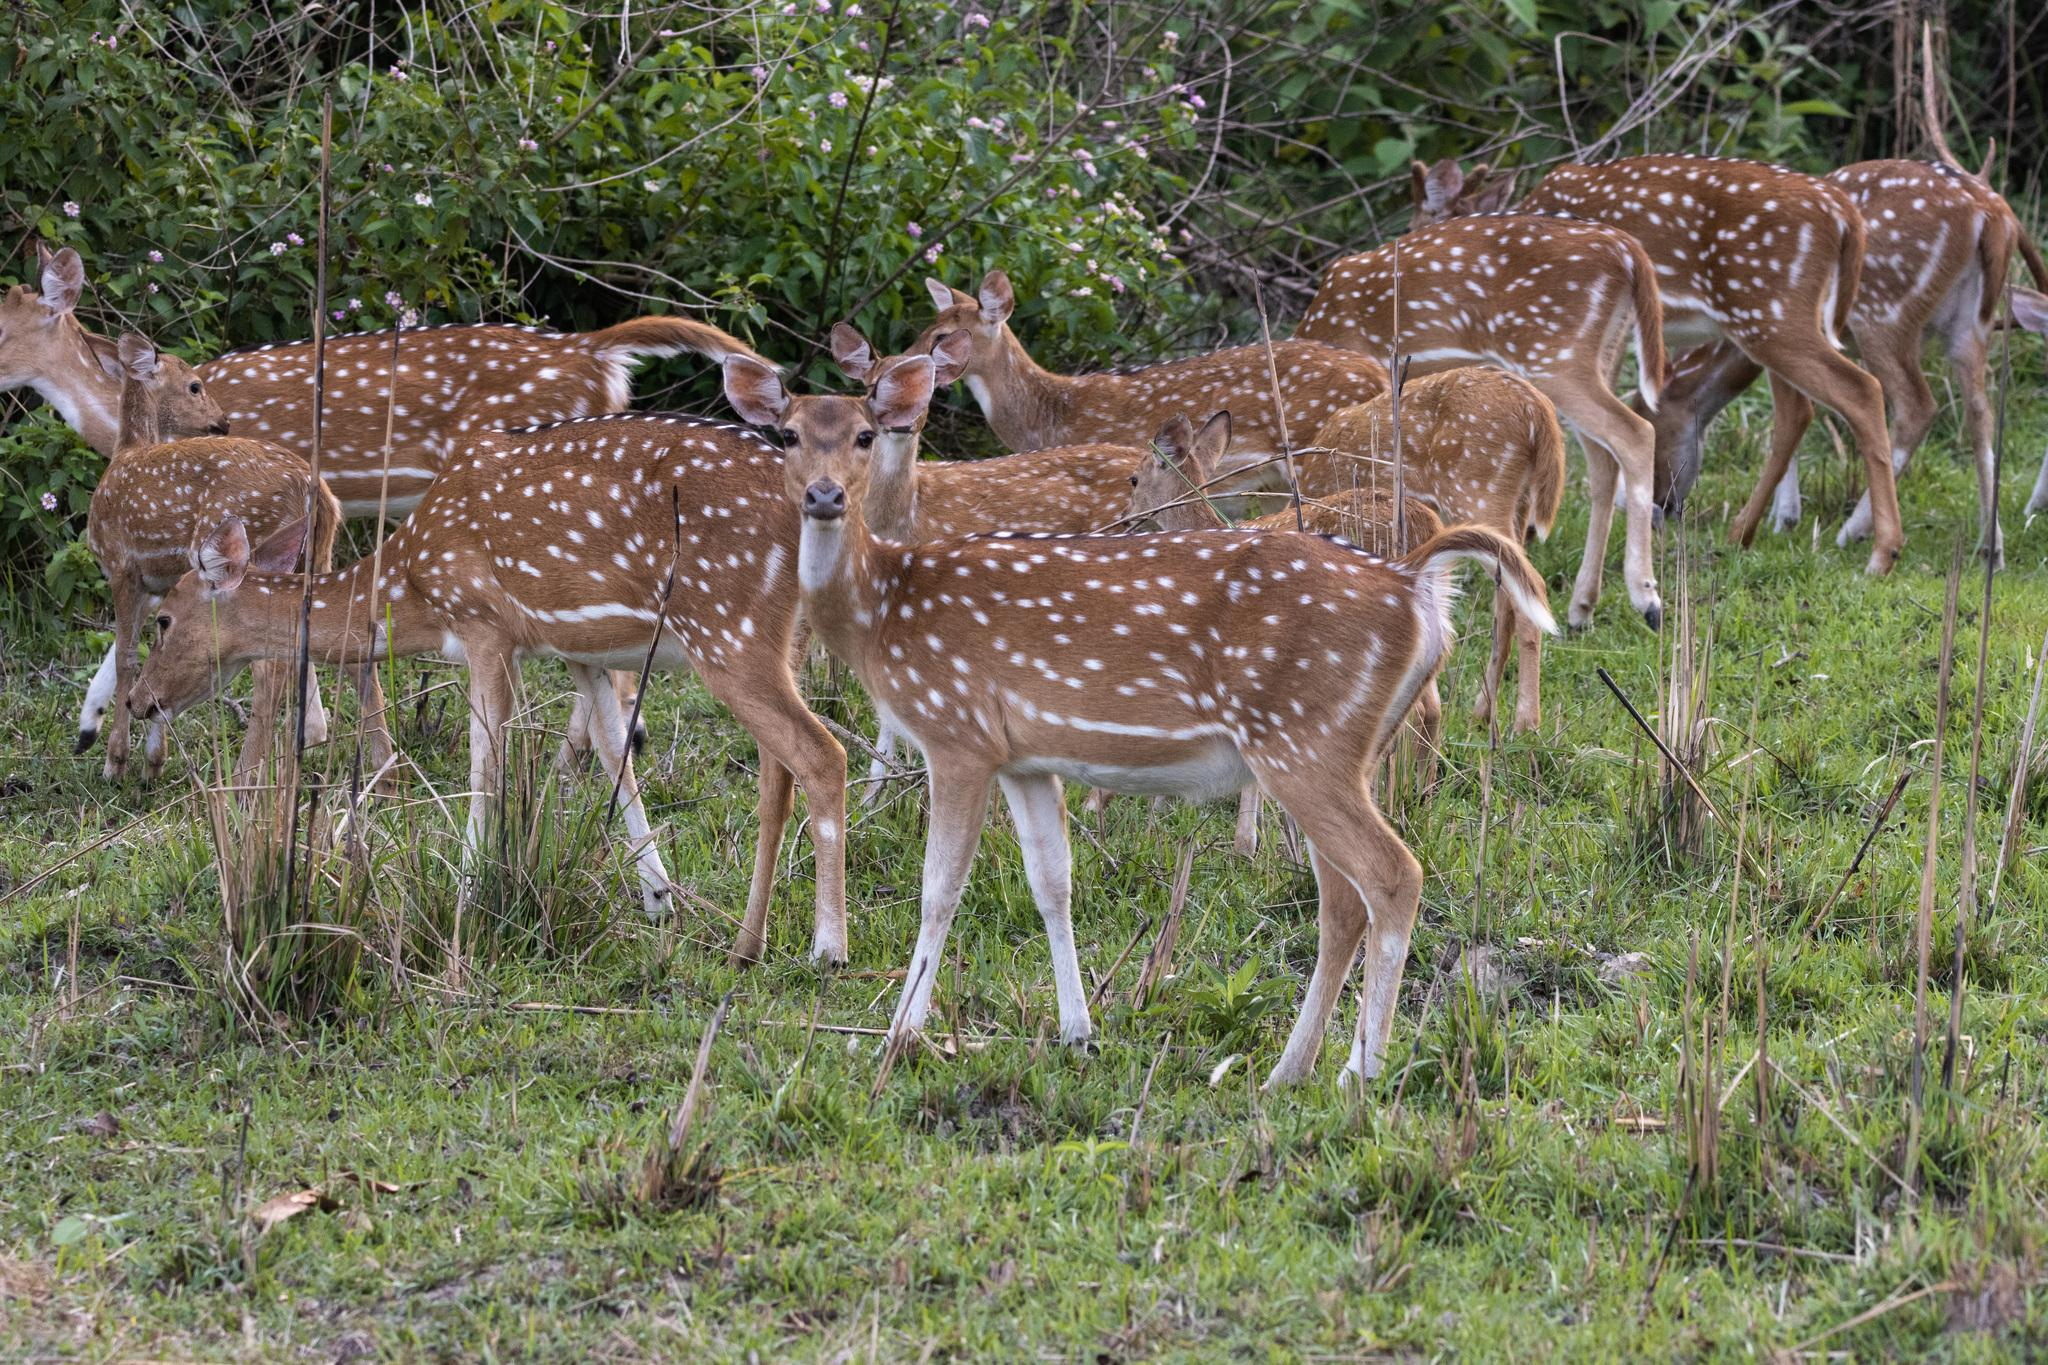Deer: (723, 353, 1536, 1085), (120, 414, 845, 969), (1408, 155, 1903, 573), (1294, 213, 1666, 631), (918, 270, 1387, 497), (87, 332, 308, 780), (1300, 366, 1564, 542)
